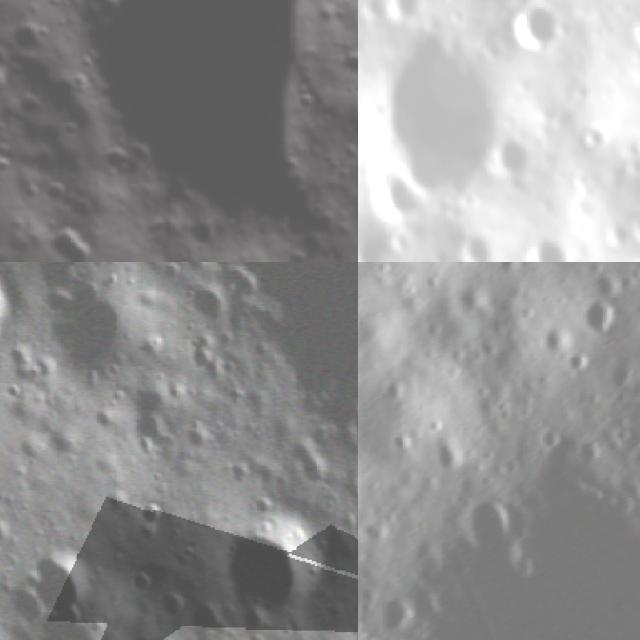crater: (0, 0, 358, 262), (358, 387, 640, 640), (209, 262, 358, 476), (358, 24, 495, 201), (38, 264, 167, 388), (206, 499, 327, 630), (24, 538, 97, 625), (452, 485, 526, 562), (10, 599, 130, 640), (24, 205, 107, 262), (362, 580, 430, 640), (570, 288, 632, 349), (371, 169, 430, 231), (184, 268, 238, 332), (486, 124, 546, 180), (504, 0, 562, 56), (3, 567, 51, 633), (0, 262, 31, 360), (534, 316, 582, 365), (34, 169, 85, 215), (185, 594, 234, 640), (0, 46, 27, 127), (520, 227, 581, 262), (150, 576, 191, 625), (449, 222, 498, 262), (575, 115, 619, 157), (558, 339, 599, 382), (372, 369, 413, 411), (620, 433, 640, 516), (124, 563, 157, 600), (136, 496, 171, 530), (622, 204, 640, 249), (41, 262, 102, 275), (625, 0, 640, 52), (358, 296, 370, 345)
